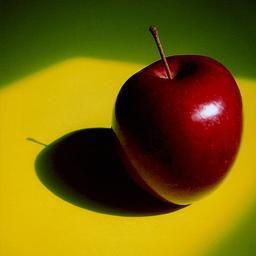apple: (112, 43, 244, 206)
